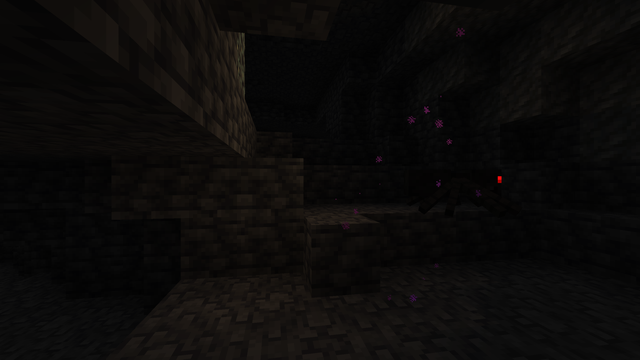araignees: (405, 162, 519, 216)
